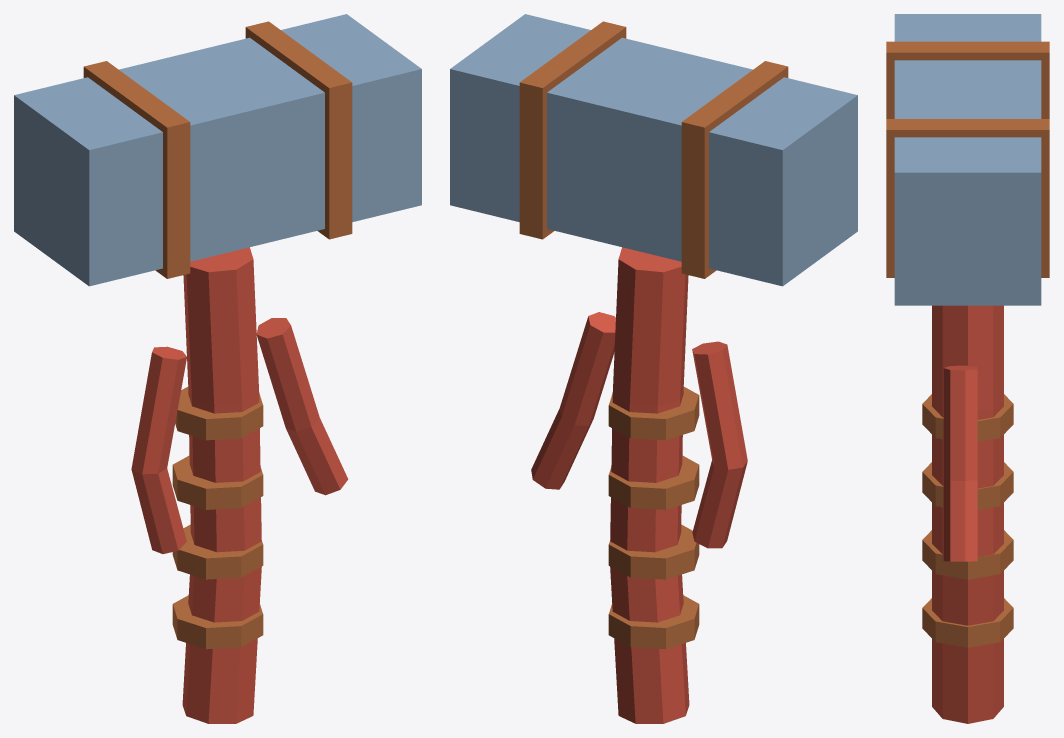
The model's file is martilloImprovisado.fbx.
3 renders of one model, left to right at view 1: azimuth 30°, elevation 25°; view 2: azimuth 150°, elevation 25°; view 3: azimuth 270°, elevation 25°, orthographic. The views are drawn at different scales.
Parts seen in each view (by area): view 1: Martillo_Improvisado; view 2: Martillo_Improvisado; view 3: Martillo_Improvisado.
Part boxes in pixels (bbox=[...]): Martillo_Improvisado: bbox=[14, 14, 421, 723]; Martillo_Improvisado: bbox=[450, 14, 857, 723]; Martillo_Improvisado: bbox=[886, 14, 1049, 723].
Size of the model in its own units: 115 by 211 by 50.
